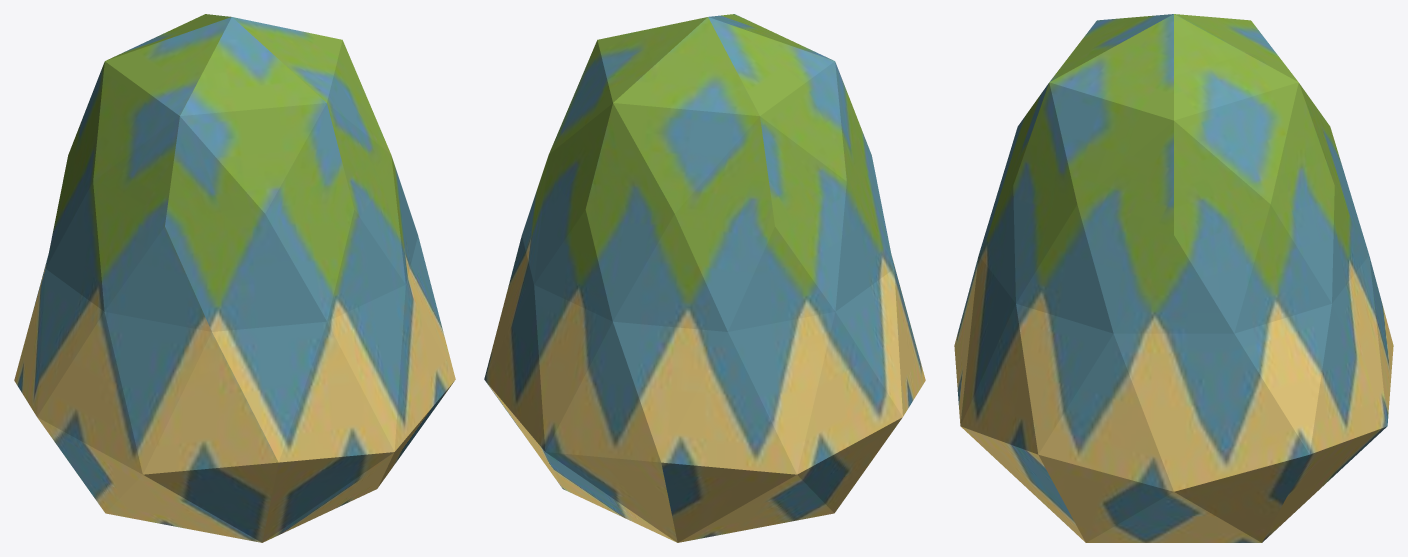
The model's file is easterEgg.glb.
3 renders of one model, left to right at view 1: azimuth 30°, elevation 25°; view 2: azimuth 150°, elevation 25°; view 3: azimuth 270°, elevation 25°, orthographic. The views are drawn at different scales.
Parts seen in each view (by area): view 1: Icosphere; view 2: Icosphere; view 3: Icosphere.
Boxes of the visible parts, bbox=[...] form: Icosphere: bbox=[14, 14, 455, 542]; Icosphere: bbox=[484, 14, 925, 542]; Icosphere: bbox=[954, 14, 1393, 542].
Bounding box in the file's own units: 1.6 × 2 × 1.54.
1 material, 1 textured.
